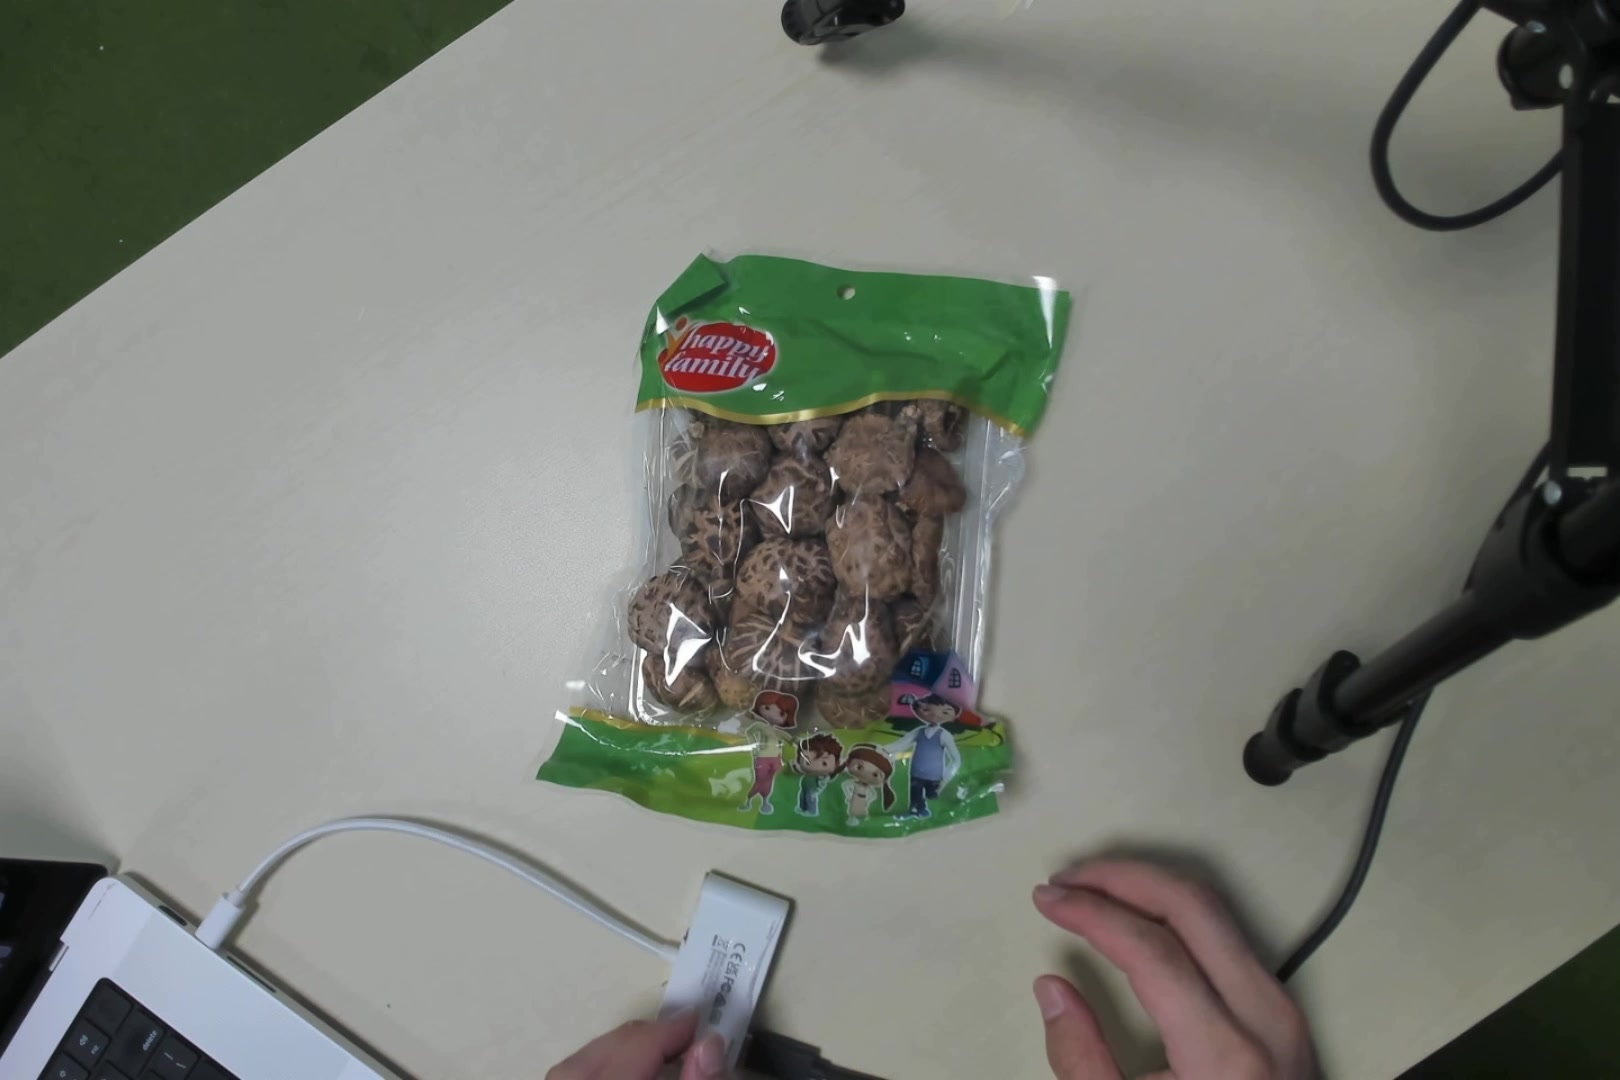OtherDriedFood_100-199g_NonHalal_NonHealthy: (622, 196, 1009, 844)
